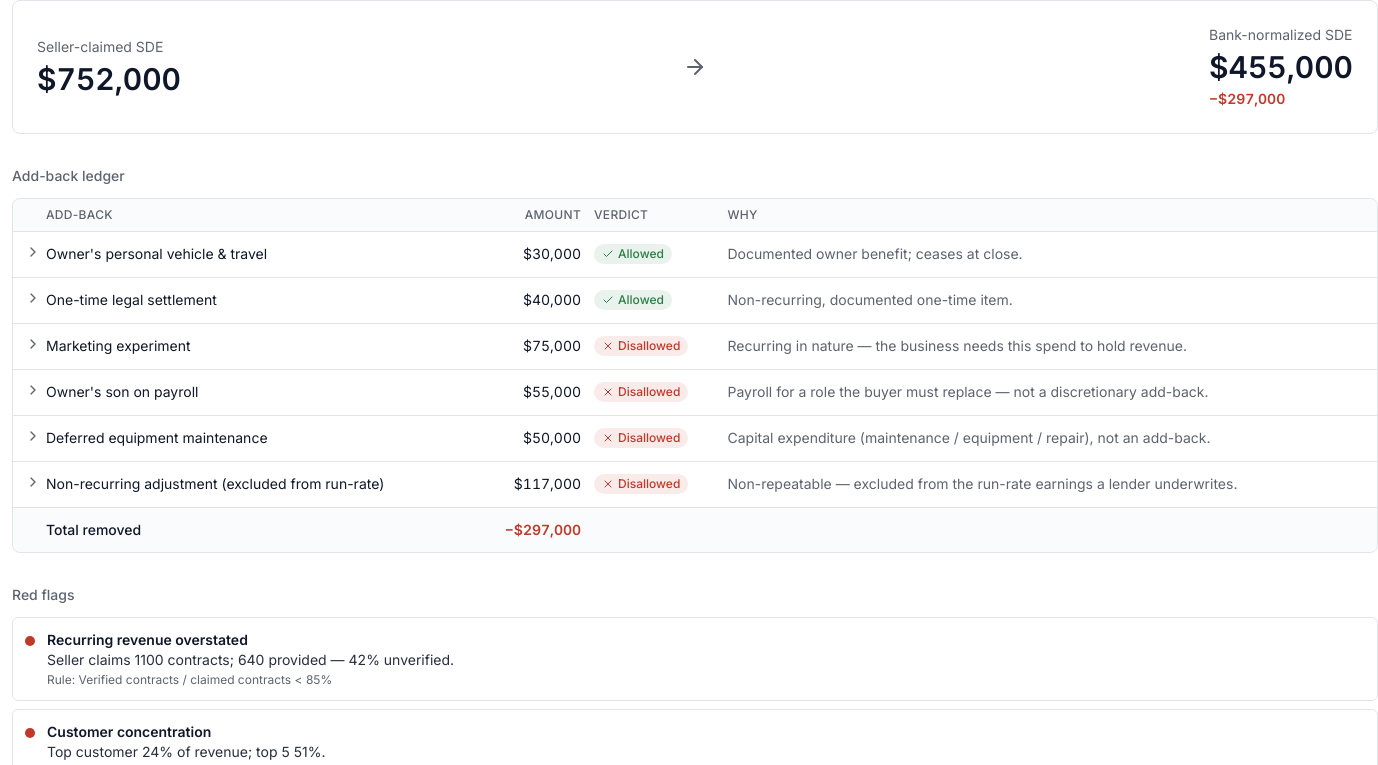
Test: NormalizeTab (financials normalizer) › expands a row to reveal the lender note
The image size is (1378, 765).
Check: the text "What a lender will ask for" is not shown
Click the button named "Toggle lender note for Owner's son on payroll" at coordinates (33, 390), box [25,382,41,398]
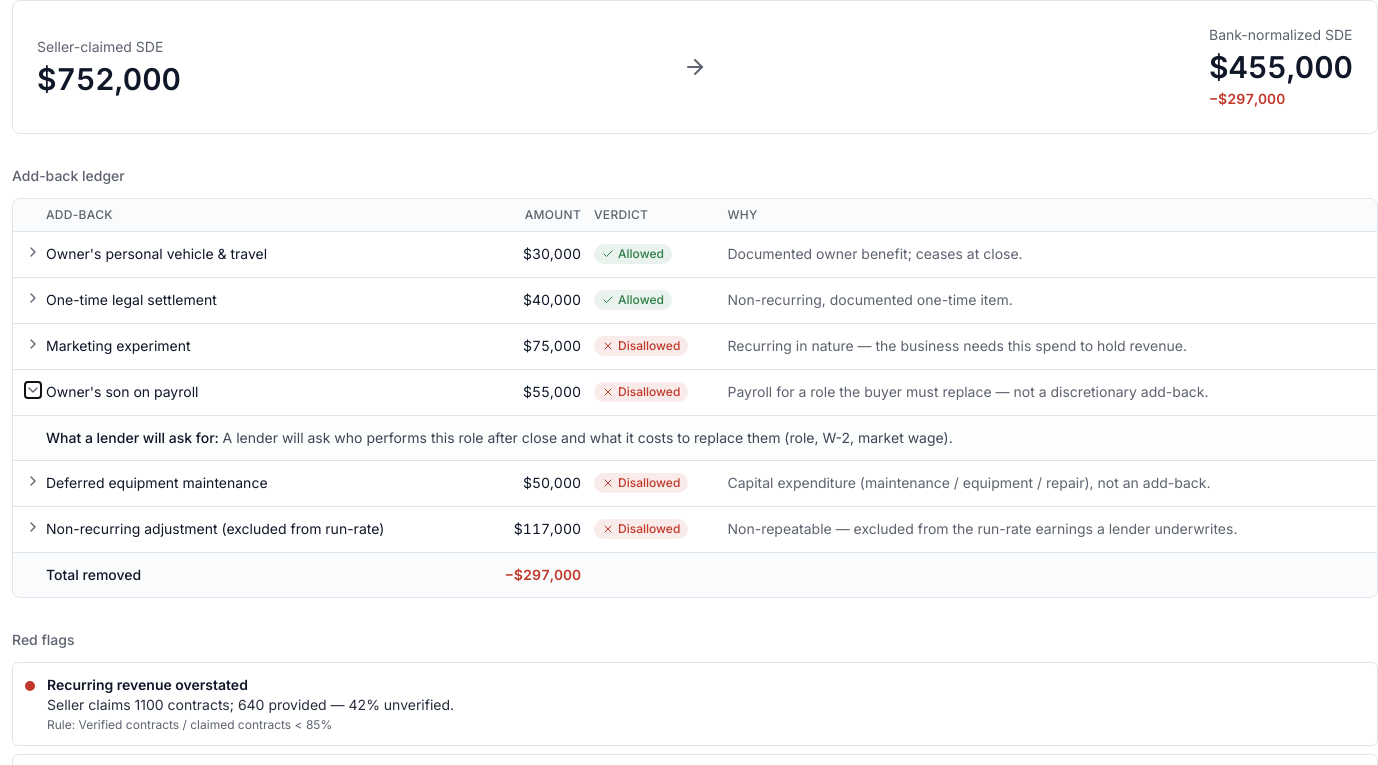
Check: the text "What a lender will ask for:" is shown, box [46,429,222,446]
